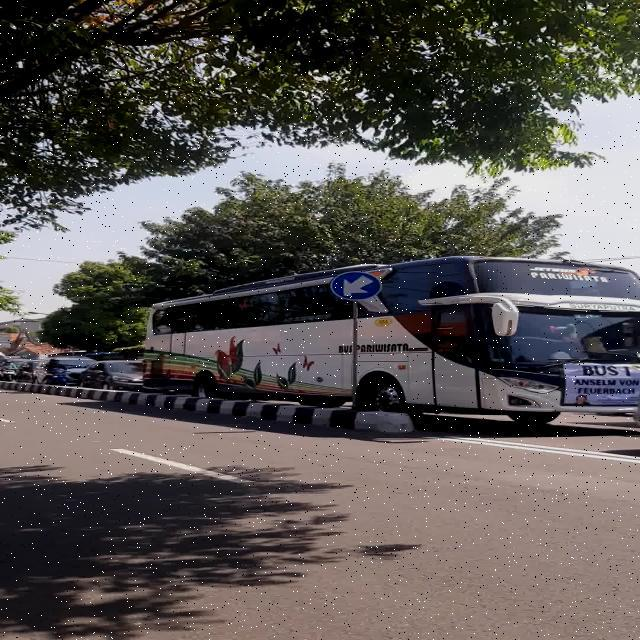Lajur Kiri: (330, 272, 383, 300)
